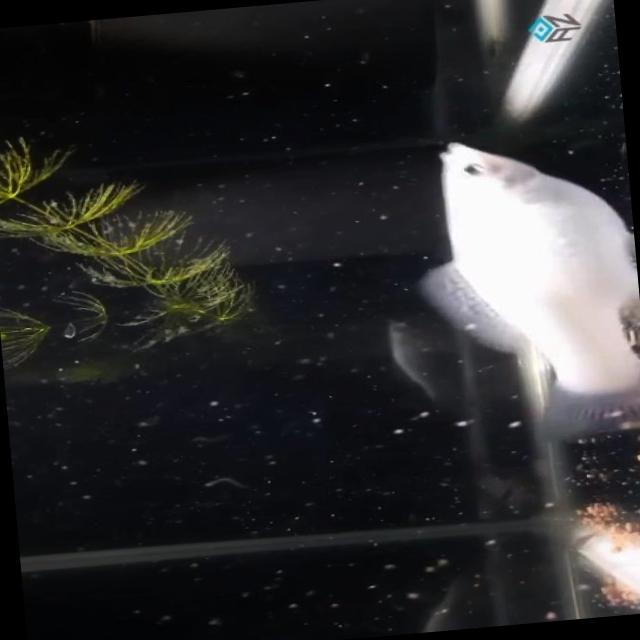PlatyFish: (382, 119, 640, 457)
